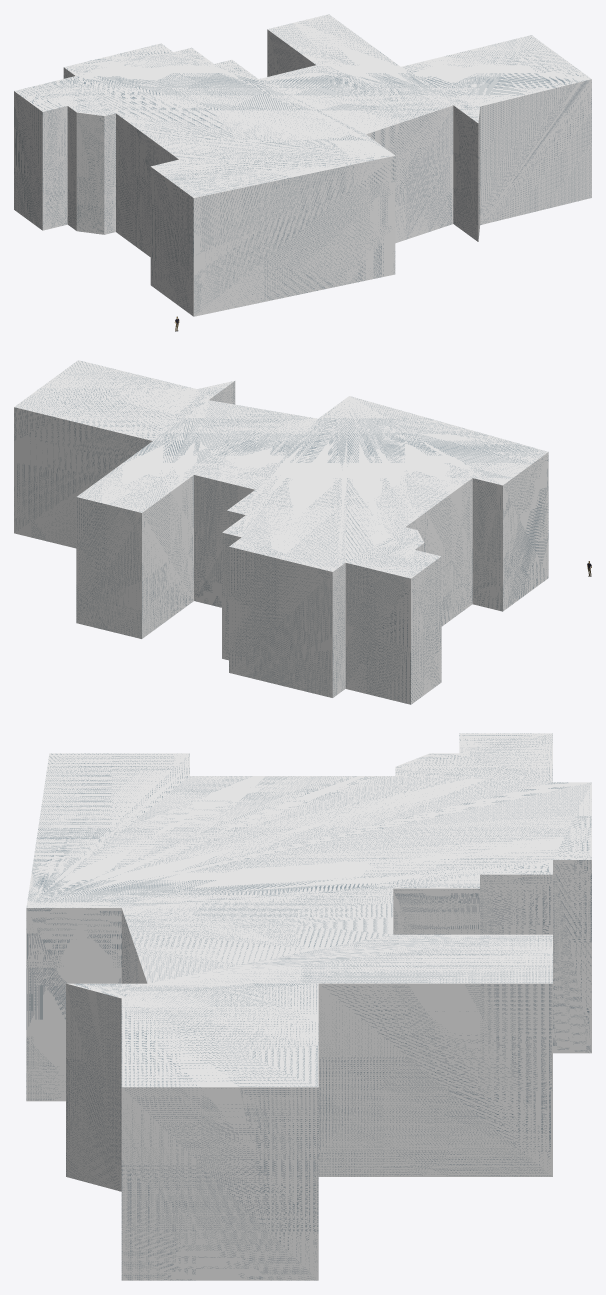
Rendered from Union.dae.
3 renders of one model, top to bottom at view 1: azimuth 30°, elevation 25°; view 2: azimuth 150°, elevation 25°; view 3: azimuth 270°, elevation 25°, orthographic. The views are drawn at different scales.
Parts seen in each view (by area): view 1: SketchUp; view 2: SketchUp; view 3: SketchUp.
Part boxes in pixels (x1,y1,x2,y2): SketchUp: [14, 14, 591, 316]; SketchUp: [14, 360, 548, 704]; SketchUp: [26, 733, 591, 1280].
Bounding box in the file's own units: 2210 × 1509 × 557.
